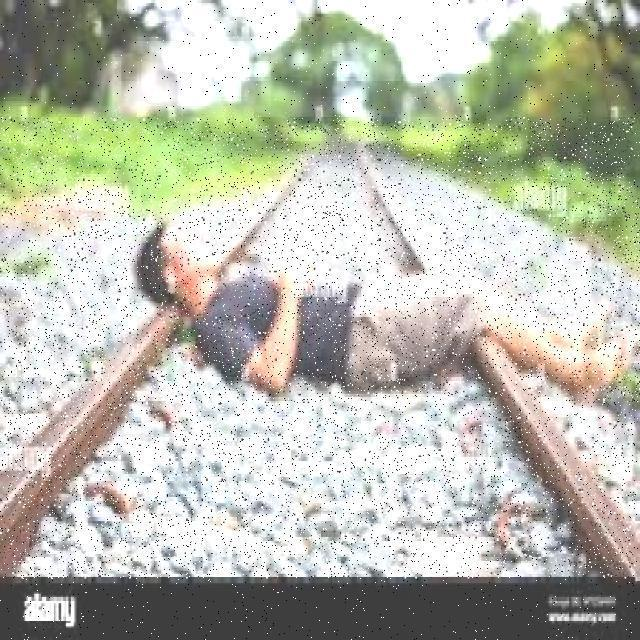danger: (141, 197, 640, 403)
rail: (0, 118, 635, 578)
